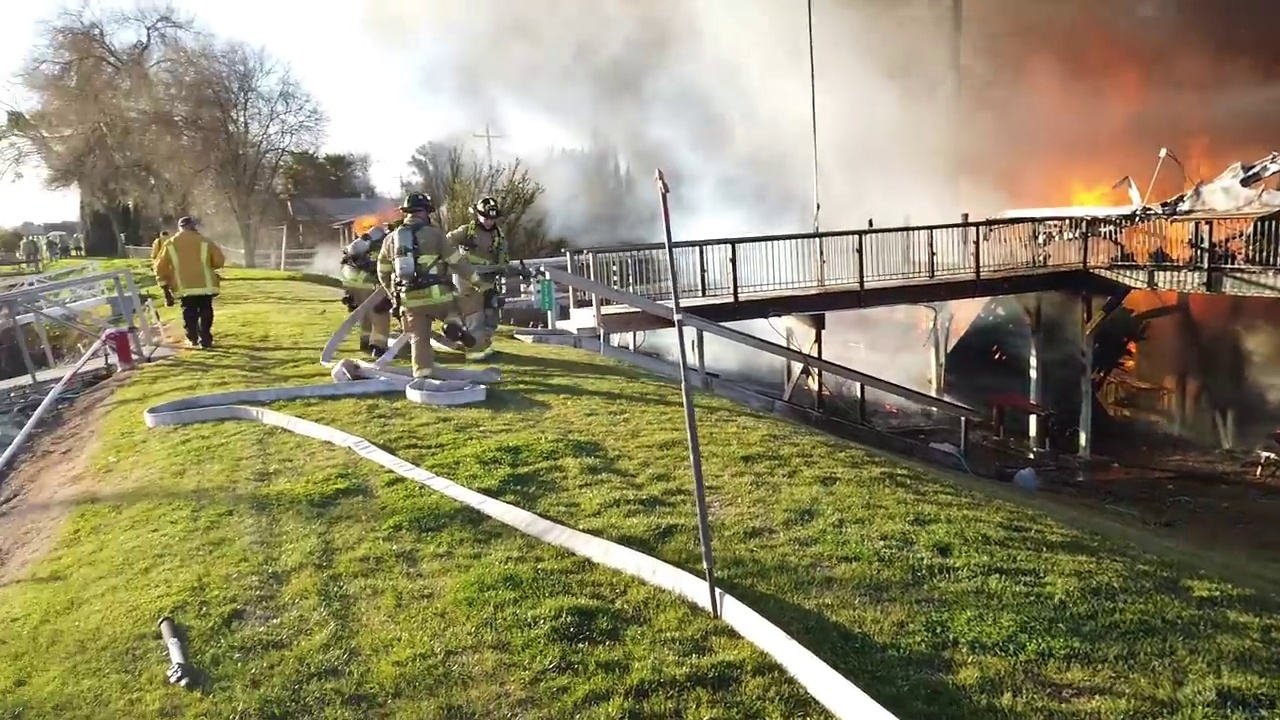fire: (1063, 123, 1279, 250), (352, 201, 407, 236), (1072, 177, 1117, 212)
smoke: (347, 6, 915, 222), (915, 1, 1279, 149), (1172, 296, 1280, 458), (978, 295, 1092, 380), (830, 313, 939, 388), (915, 168, 1063, 220), (1126, 289, 1171, 456), (705, 337, 783, 399), (651, 330, 692, 361)
